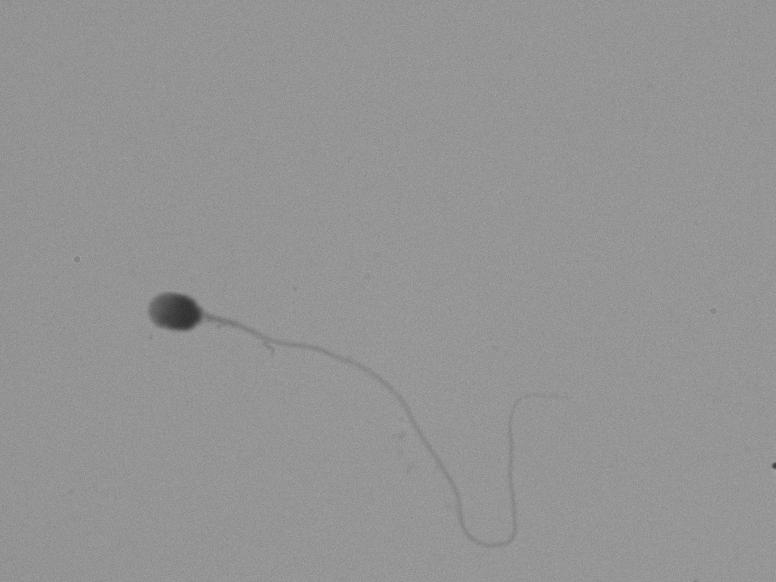Normal: (122, 191, 564, 550)
